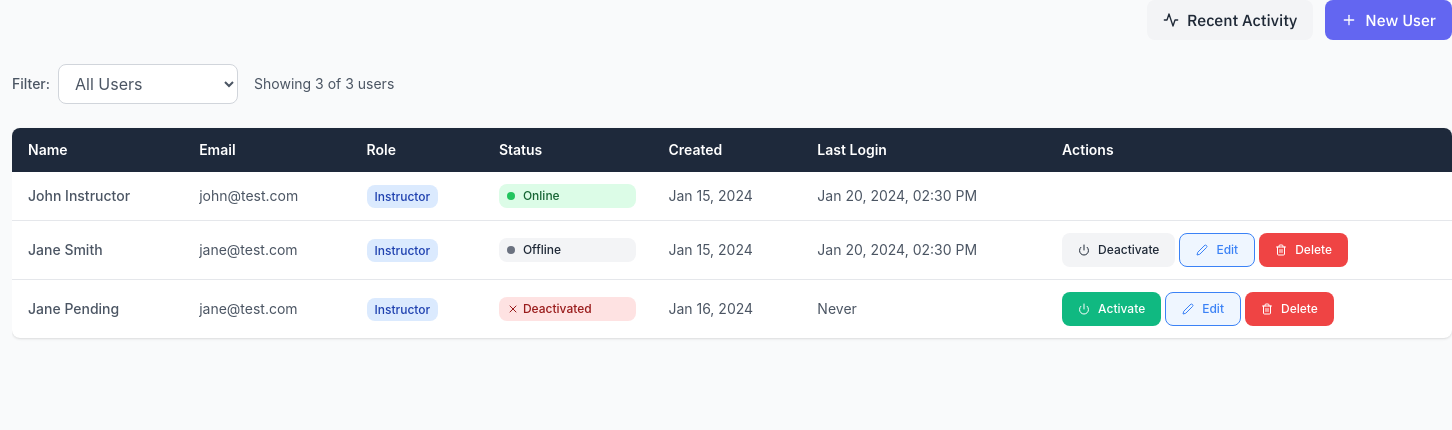
Administrator User Management (UR1.2) › User Status Updates › handles user approval successfully
expect the text "Jane Pending" is shown: met, box [12, 280, 183, 338]
Click the button "Activate" at (1112, 309), box [1062, 292, 1161, 326]
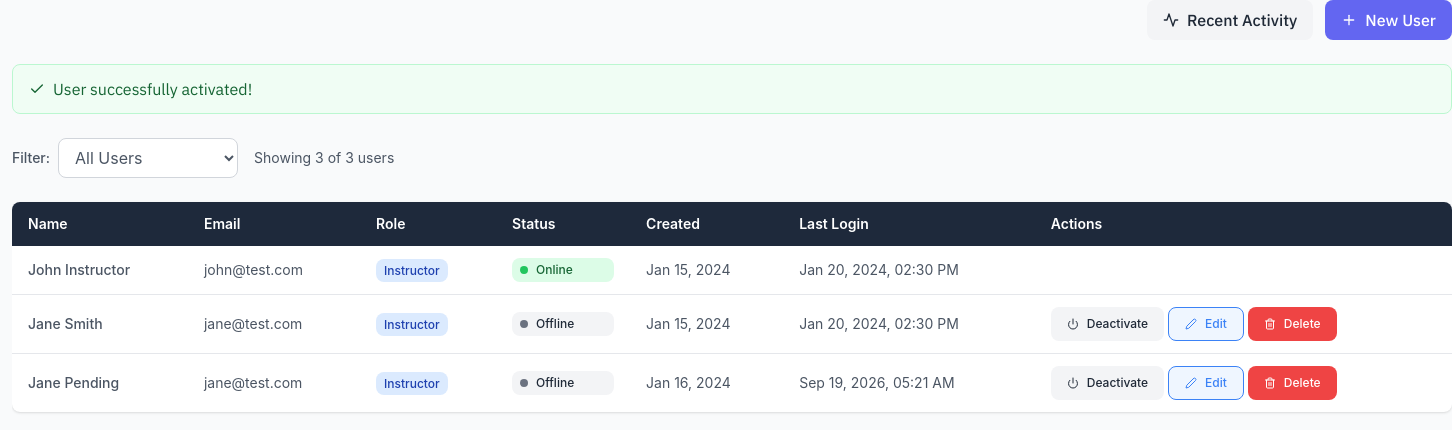
expect the text "User successfully activated!" is shown: met, box [12, 64, 1451, 114]
